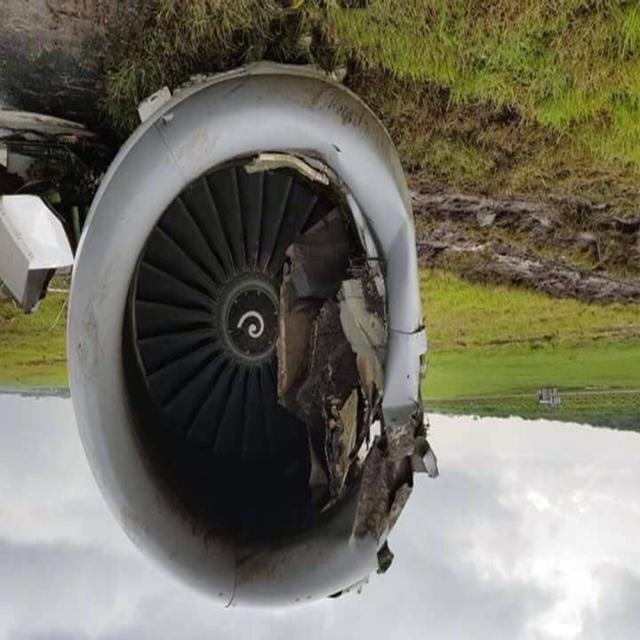dent: (376, 198, 413, 319), (380, 378, 419, 430)
